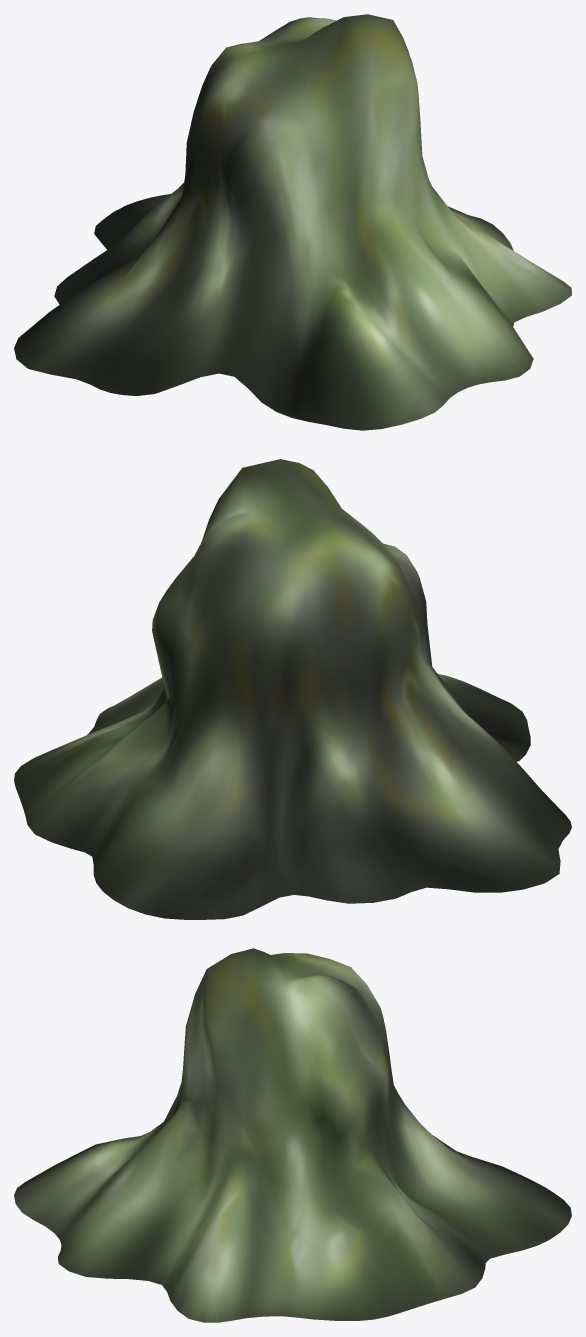
The model's file is Giant Amoeba.fbx.
3 views of the same model, one above another, from view 1: azimuth 30°, elevation 25°; view 2: azimuth 150°, elevation 25°; view 3: azimuth 270°, elevation 25° (orthographic). The views are drawn at different scales.
Visible parts, largest first — view 1: Body; view 2: Body; view 3: Body.
Boxes of the visible parts, x1=… form: Body: x1=14, y1=14, x2=571, y2=430; Body: x1=14, y1=459, x2=571, y2=919; Body: x1=14, y1=948, x2=571, y2=1322.
Bounding box in the file's own units: 1157 × 678 × 1210.
1 material, 1 textured.
